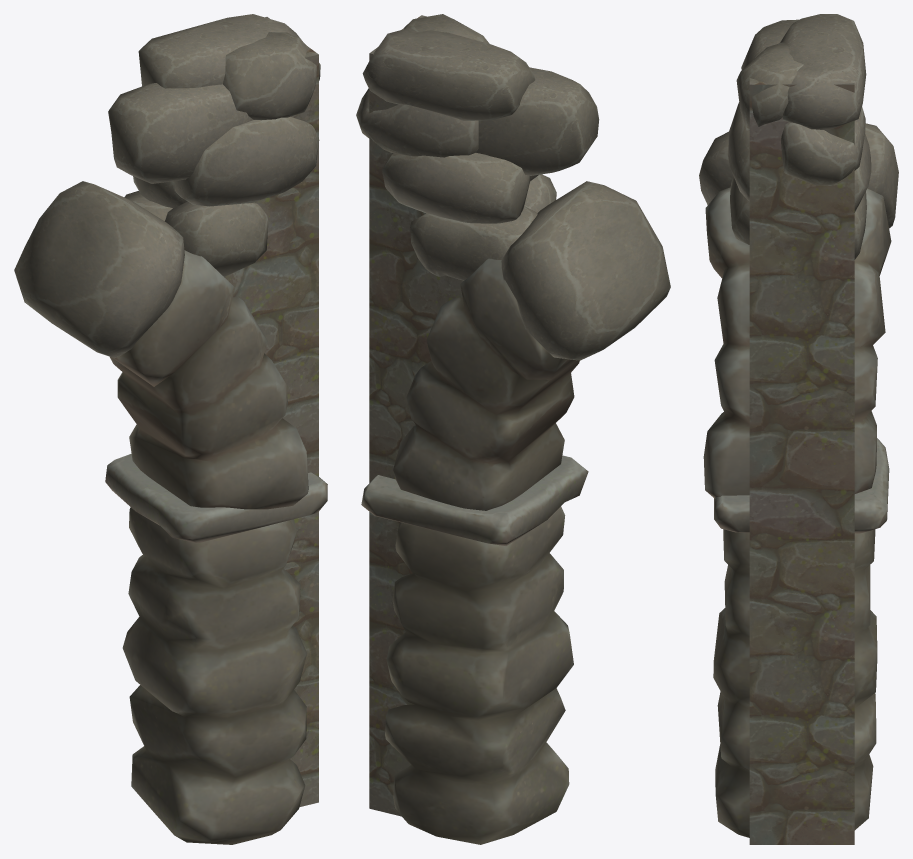
Rendered from SM_FW01_Ruins_Int_Doorway_A_4x4_Brkn_02.fbx.
The picture shows the model from 3 angles, left to right: view 1: azimuth 30°, elevation 25°; view 2: azimuth 150°, elevation 25°; view 3: azimuth 270°, elevation 25°; orthographic projection.
Visible parts, largest first — view 1: SM_FW01_Ruins_Int_Doorway_A_4x4_Brkn_02_LOD0, SM_FW01_Ruins_Int_Doorway_A_4x4_Brkn_02; view 2: SM_FW01_Ruins_Int_Doorway_A_4x4_Brkn_02_LOD0, SM_FW01_Ruins_Int_Doorway_A_4x4_Brkn_02; view 3: SM_FW01_Ruins_Int_Doorway_A_4x4_Brkn_02, SM_FW01_Ruins_Int_Doorway_A_4x4_Brkn_02_LOD0.
Boxes of the visible parts, bbox=[...] form: SM_FW01_Ruins_Int_Doorway_A_4x4_Brkn_02_LOD0: bbox=[14, 14, 327, 844]; SM_FW01_Ruins_Int_Doorway_A_4x4_Brkn_02: bbox=[224, 17, 318, 806]; SM_FW01_Ruins_Int_Doorway_A_4x4_Brkn_02_LOD0: bbox=[356, 14, 670, 844]; SM_FW01_Ruins_Int_Doorway_A_4x4_Brkn_02: bbox=[369, 15, 463, 816]; SM_FW01_Ruins_Int_Doorway_A_4x4_Brkn_02: bbox=[749, 78, 854, 844]; SM_FW01_Ruins_Int_Doorway_A_4x4_Brkn_02_LOD0: bbox=[699, 14, 898, 837].
Size of what is drawn, in the model's own units: 1.51 by 4.15 by 0.9534.
